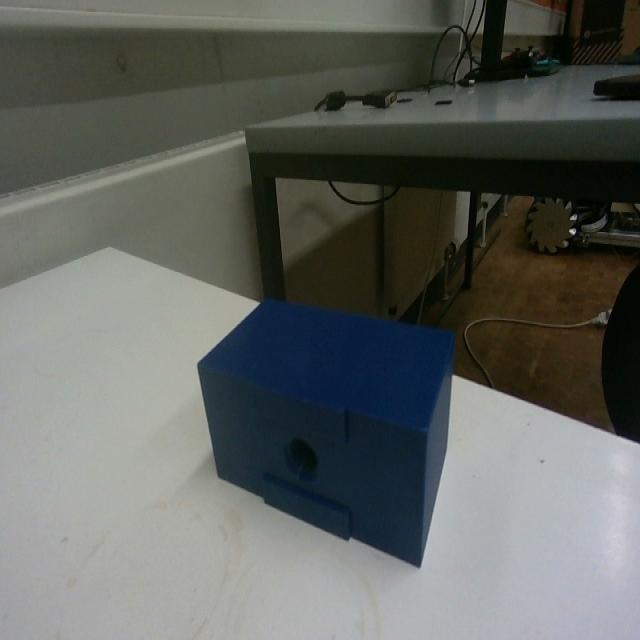Blue Cuboid: (195, 291, 458, 568)
